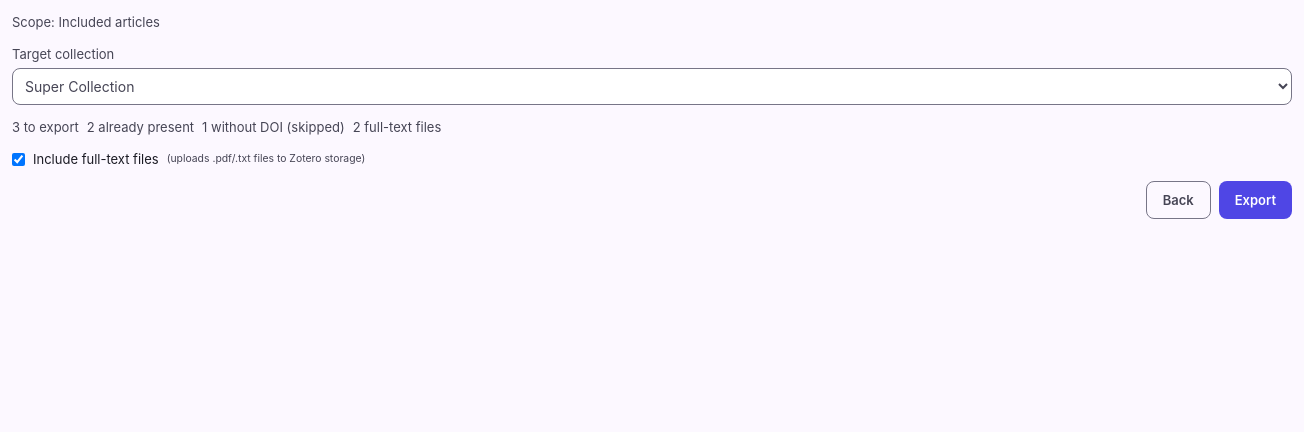
Scenario: zotero-export-panel.vue › result_summary_rendered
Click the button with test id "export-button": (1255, 200) [1219,181,1292,219]
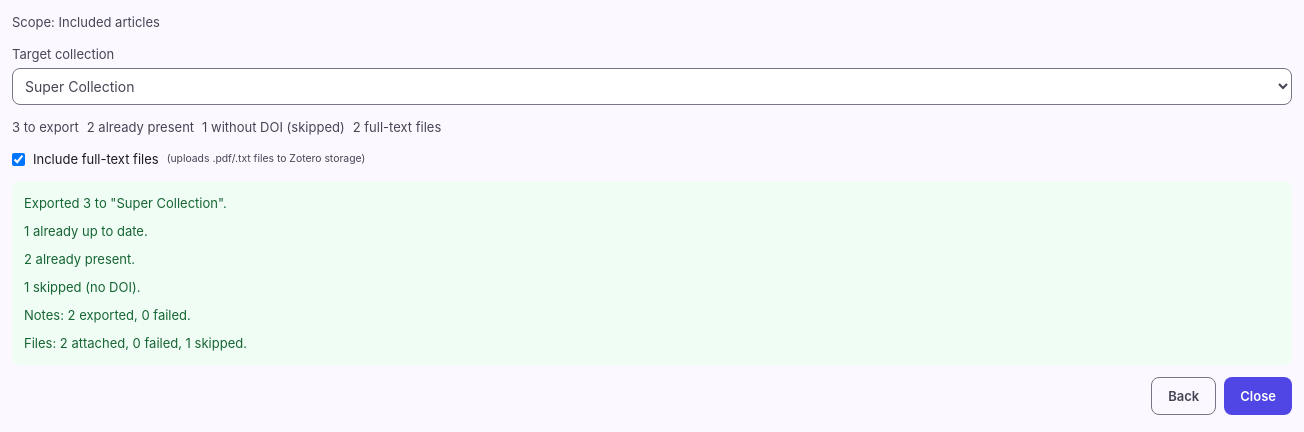
Now the element with test id "result" is shown, box [12,181,1292,365]
Now the element with test id "result" shows "Exported 3", box [24,195,227,211]
Now the element with test id "result" shows "Super Collection", box [24,195,227,211]
